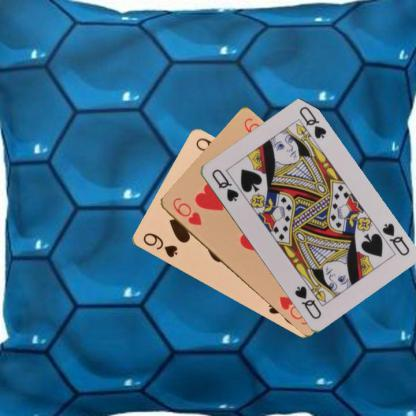6h: (169, 195, 203, 227)
9s: (140, 230, 178, 259)
Qs: (208, 166, 240, 203), (379, 220, 411, 257)
